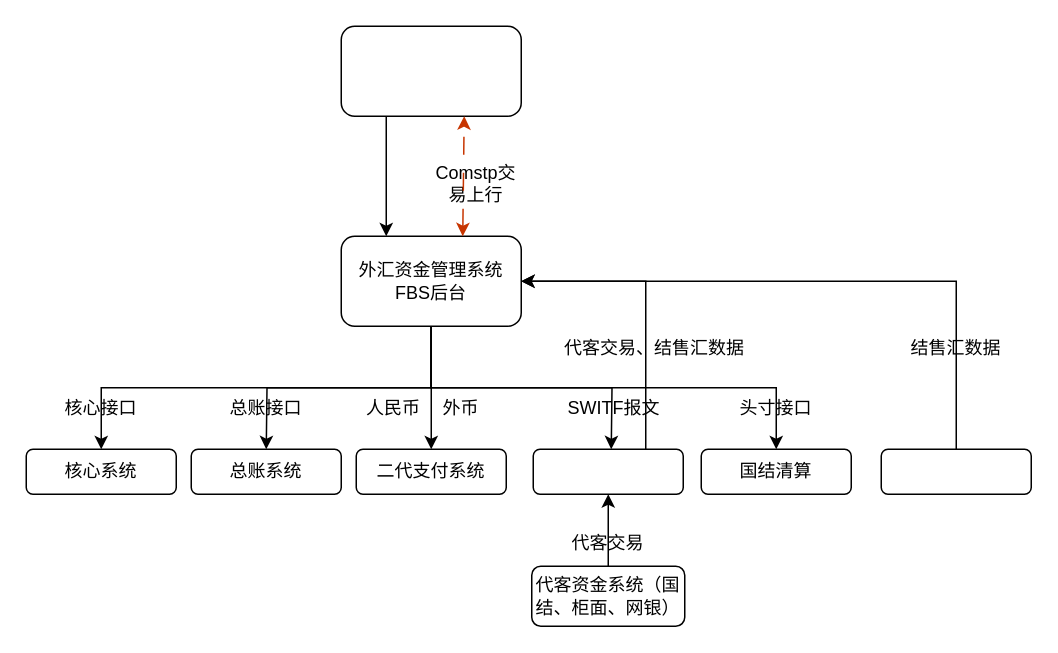
Some shapes in this 1058 by 653 pixel diagram are drawn without their labels. The box of each missing label's shape, as (x1, y1, x2, y2) in pixels:
国结系统: (532, 448, 683, 494)
外汇资金XMS前中台: (340, 25, 521, 116)
大前置: (880, 448, 1031, 494)
